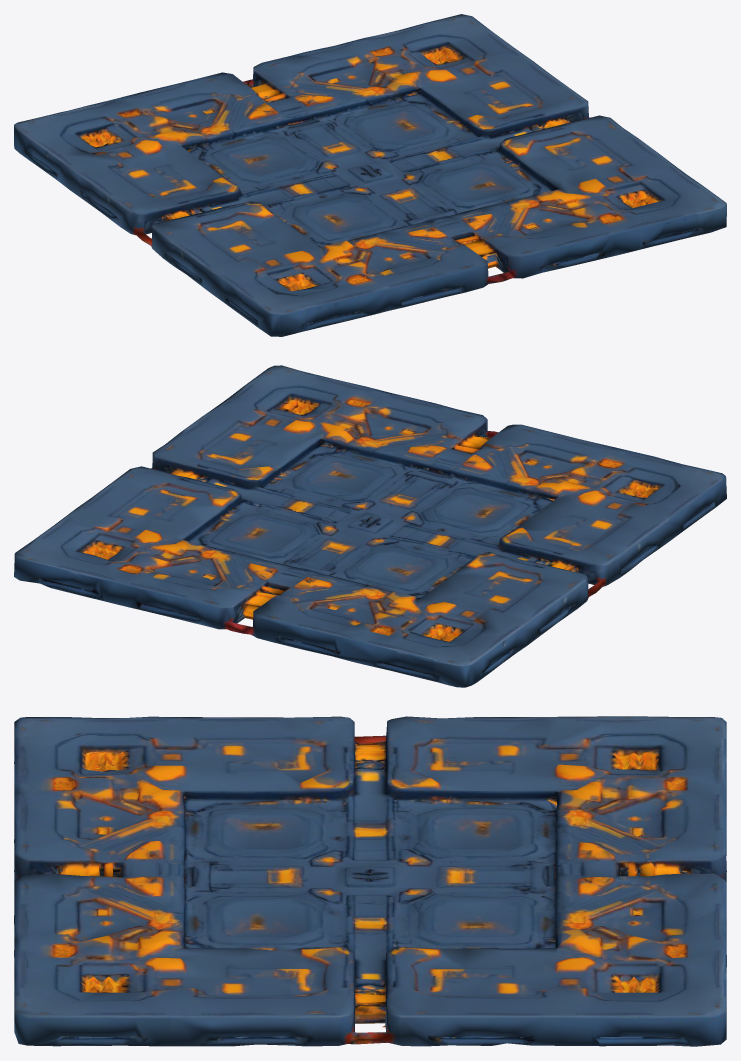
File: Sol_métallique_futur_1203052955_texture.fbx
3 renders of one model, top to bottom at view 1: azimuth 30°, elevation 25°; view 2: azimuth 150°, elevation 25°; view 3: azimuth 270°, elevation 25°, orthographic. The views are drawn at different scales.
Parts seen in each view (by area): view 1: Mesh1.0; view 2: Mesh1.0; view 3: Mesh1.0.
Part boxes in pixels (x1=…): Mesh1.0: x1=14, y1=14, x2=726, y2=336; Mesh1.0: x1=14, y1=365, x2=726, y2=687; Mesh1.0: x1=14, y1=716, x2=726, y2=1046.
Bounding box in the file's own units: 191 × 9.37 × 191.
Materials: 1 (1 with a texture image).
